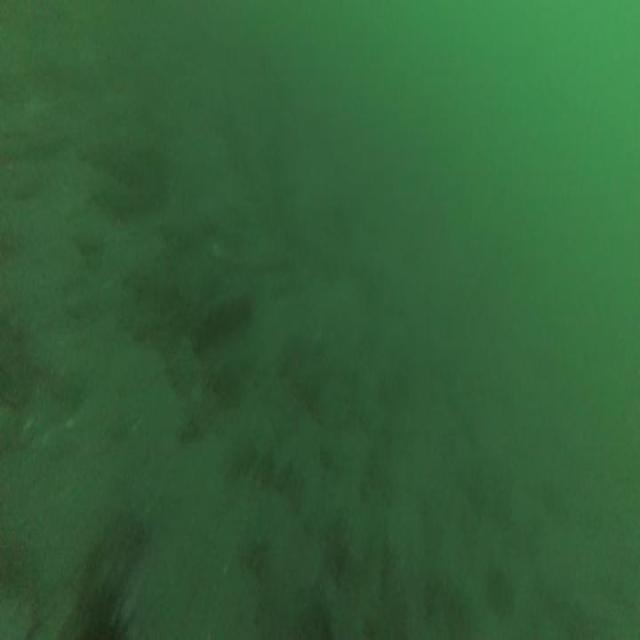holothurian: (191, 285, 249, 346)
